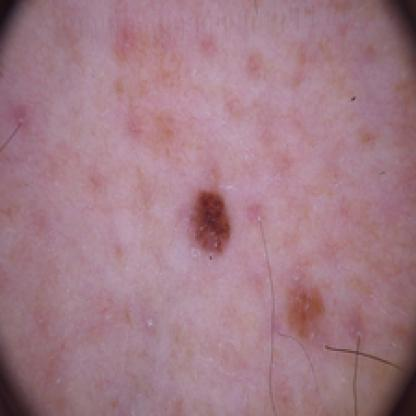benign: (182, 174, 240, 254)
